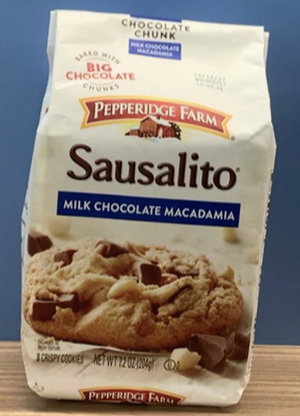cookies_150g: (43, 105, 249, 357)
